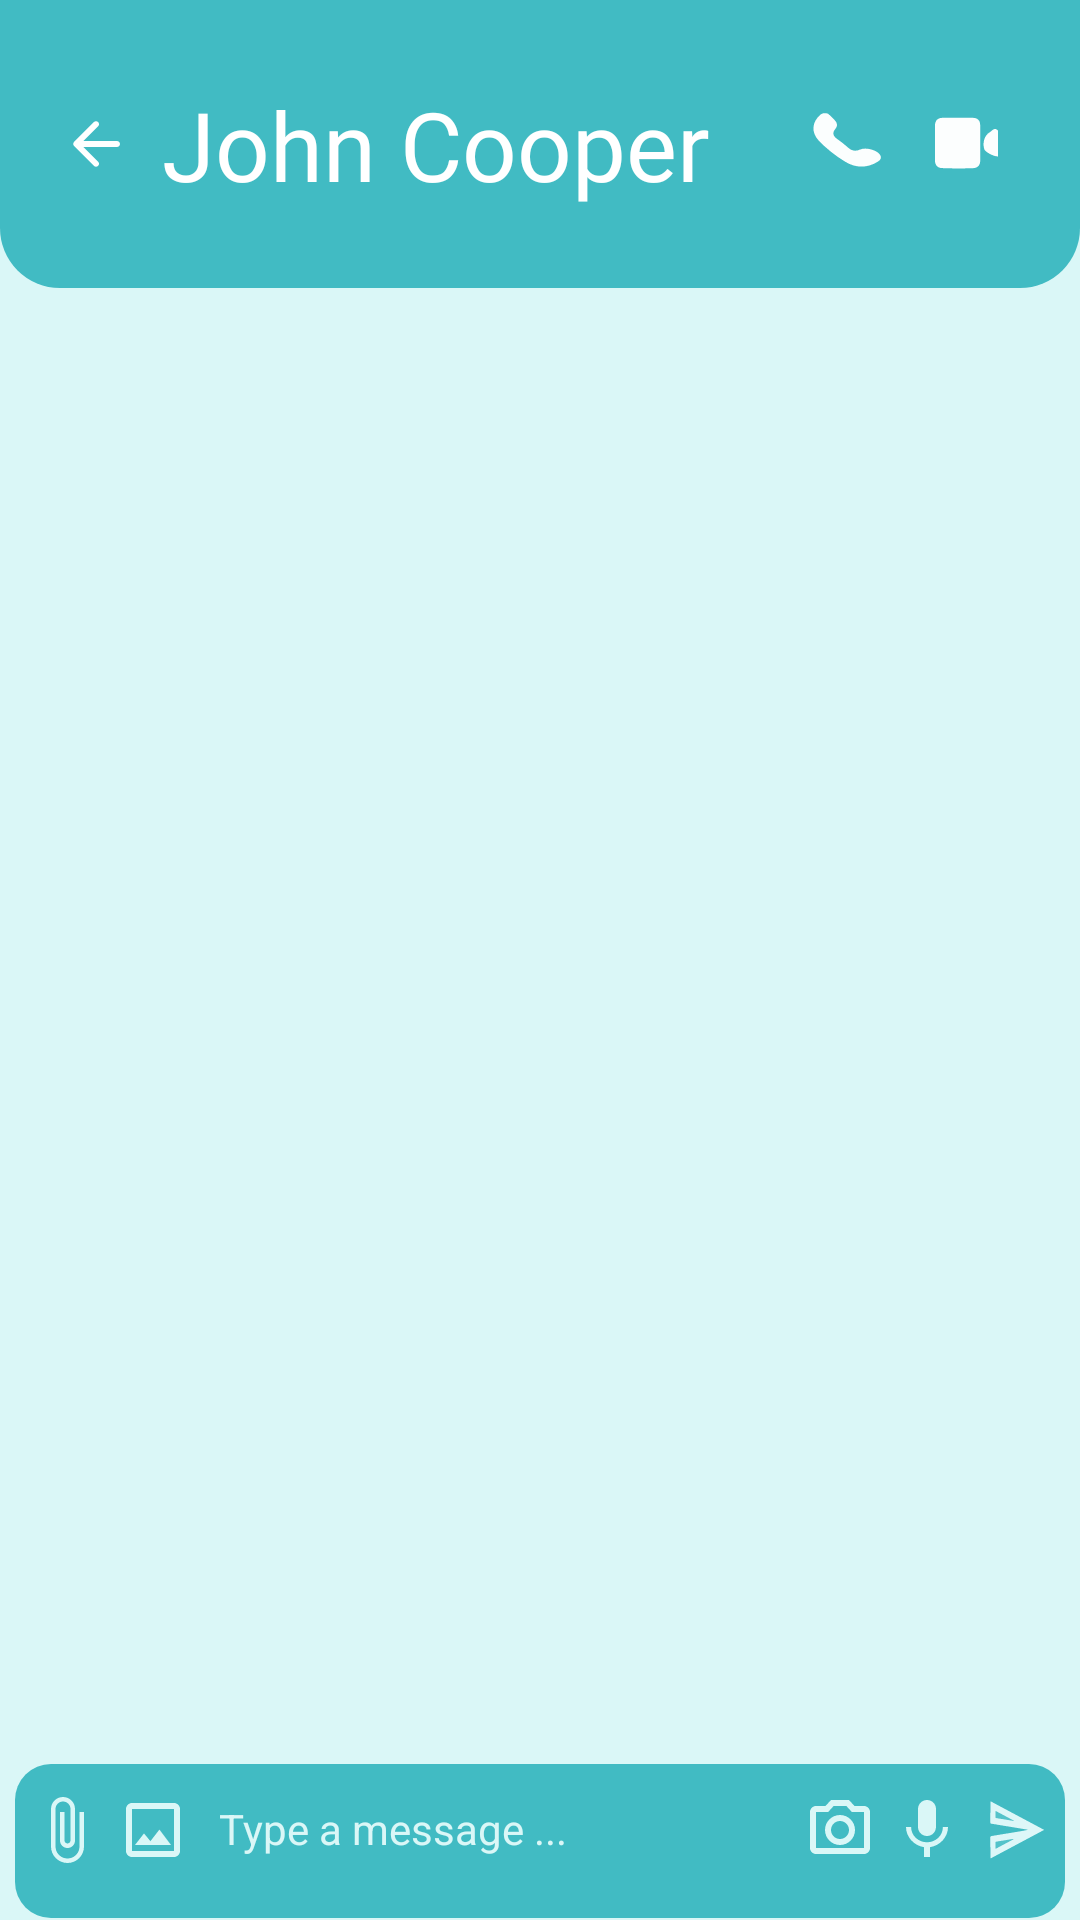

Locate icon controls on the screen. Image size 1080×1920, boxes as rect(x1, y1, x2, y2).
attach file: rect(51, 1797, 84, 1863)
camera: rect(810, 1800, 870, 1854)
chat arrow back: rect(73, 121, 120, 167)
mic: rect(906, 1800, 948, 1857)
send: rect(990, 1801, 1044, 1858)
video call: rect(935, 117, 998, 169)
